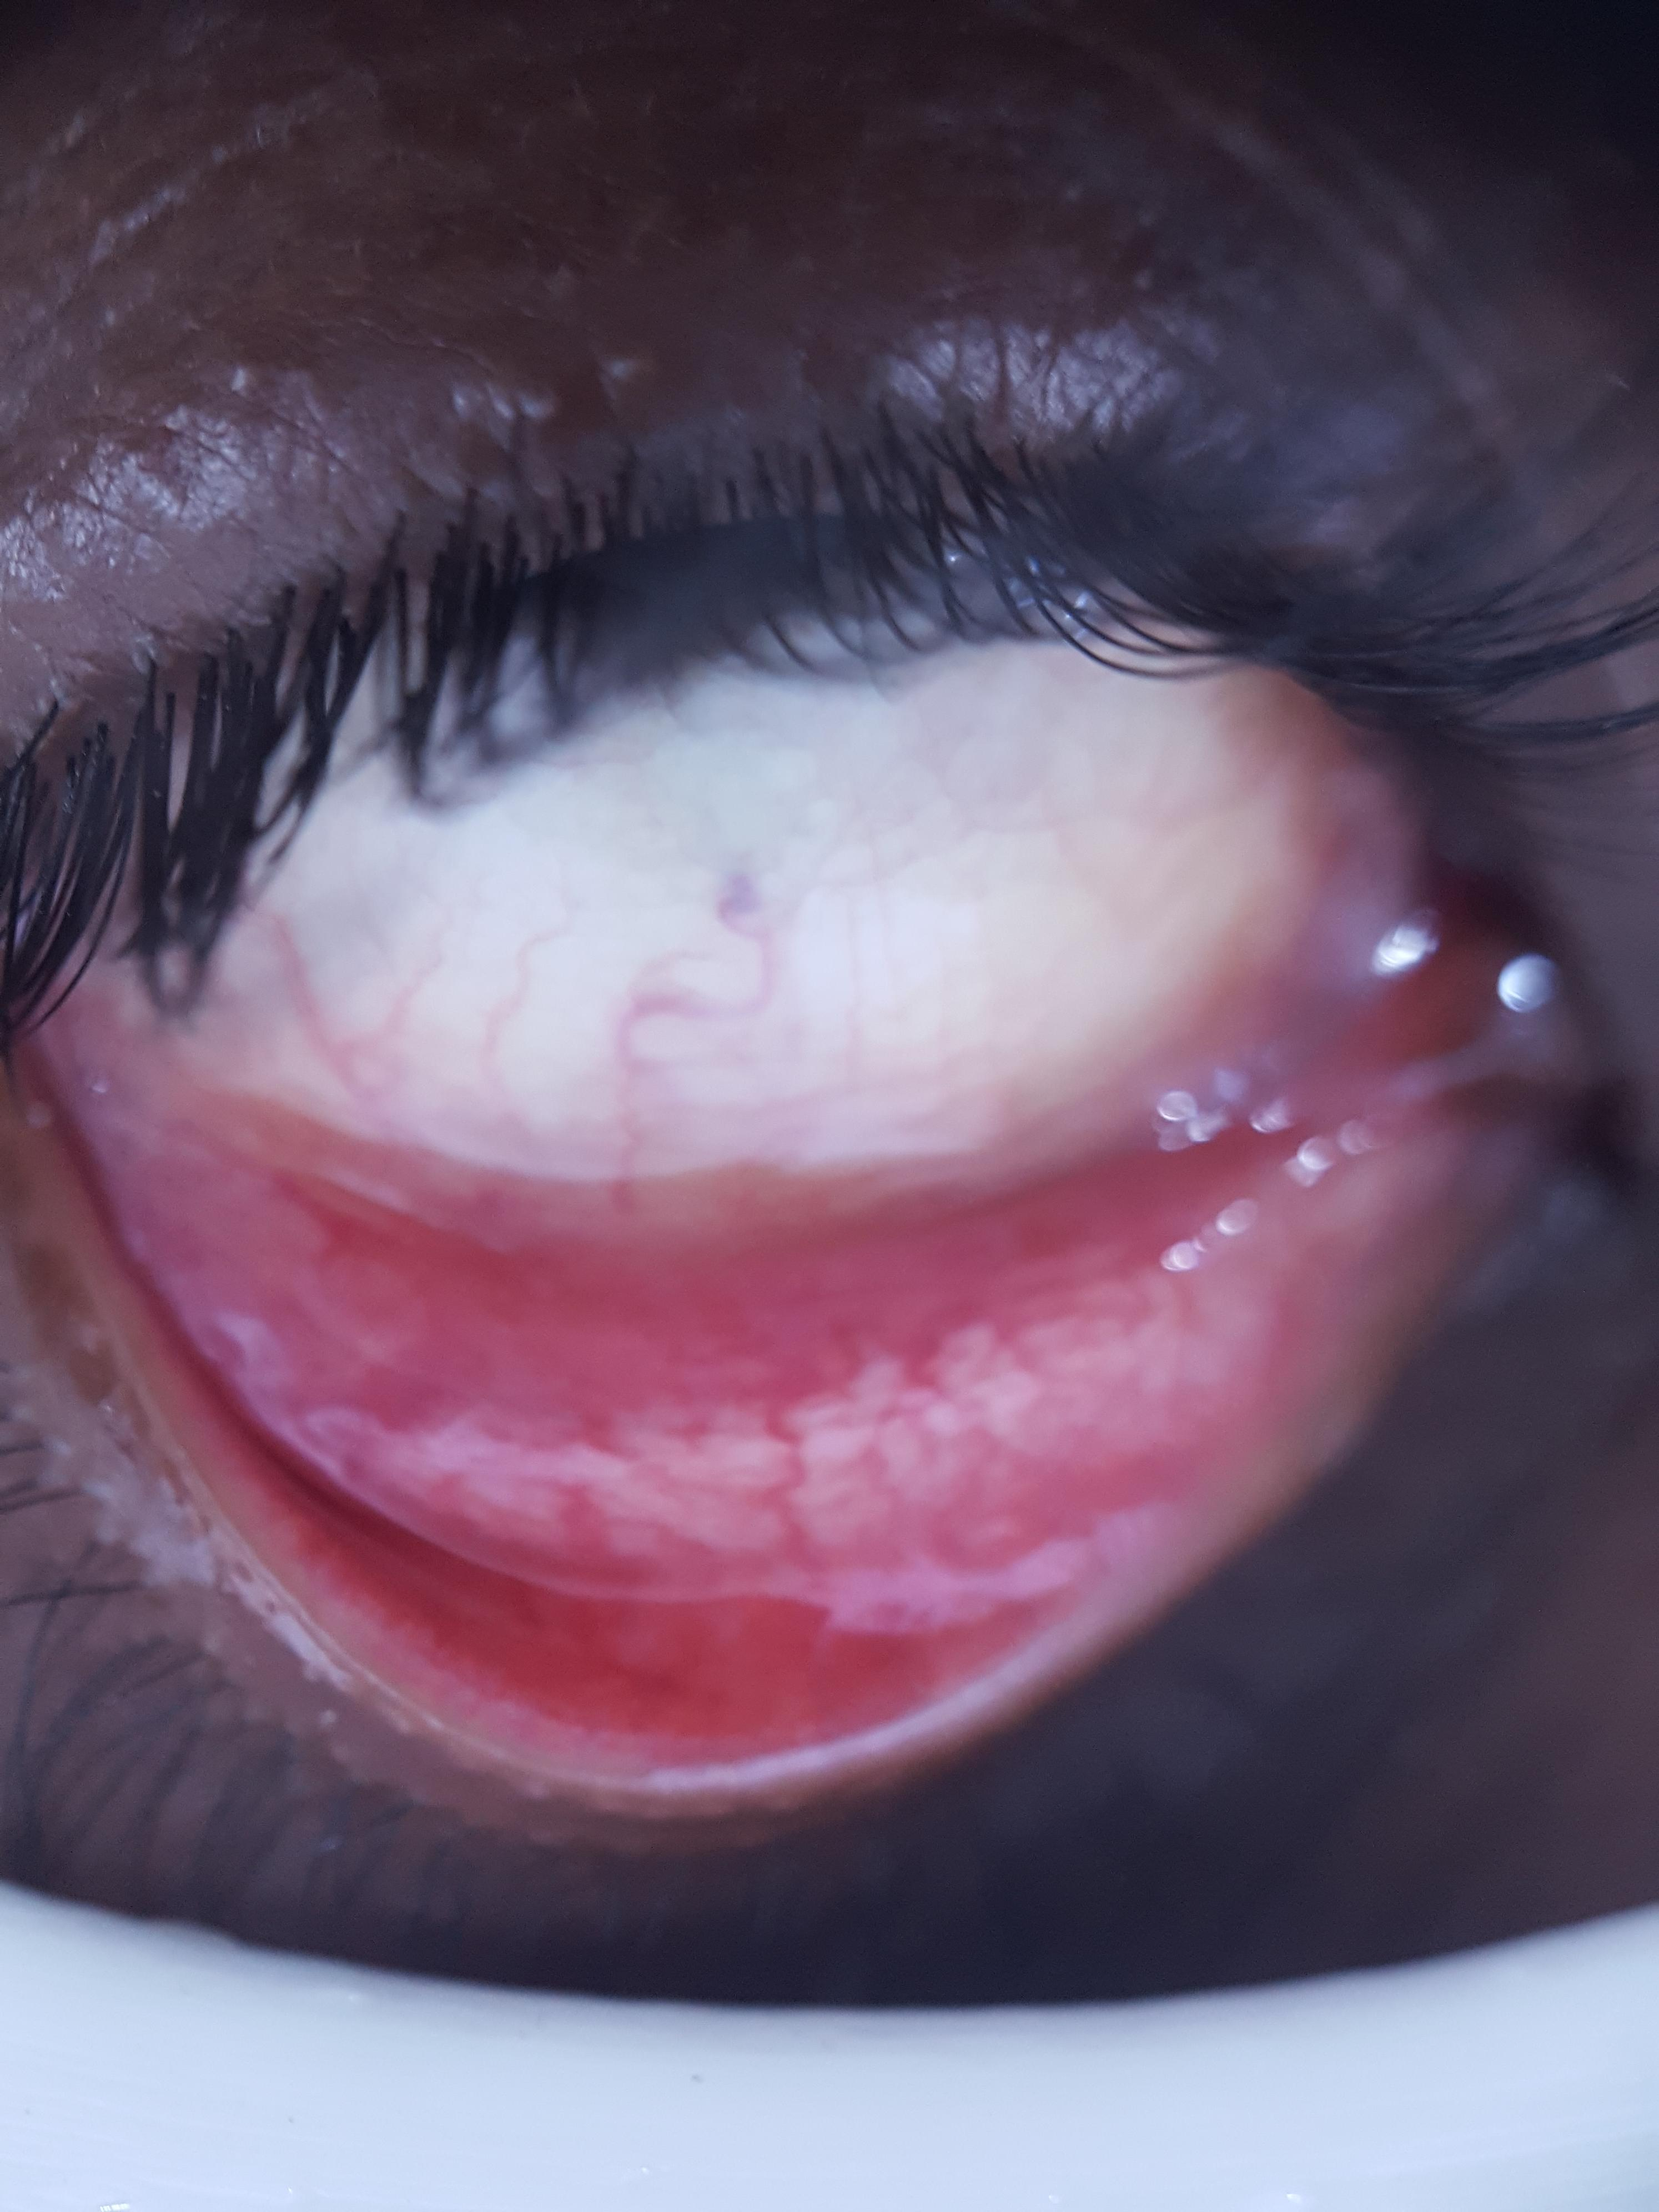forniceal: (33, 1055, 1427, 1627)
forniceal_palpebral: (30, 1047, 1436, 1766)
palpebral: (68, 1125, 1035, 1757)
